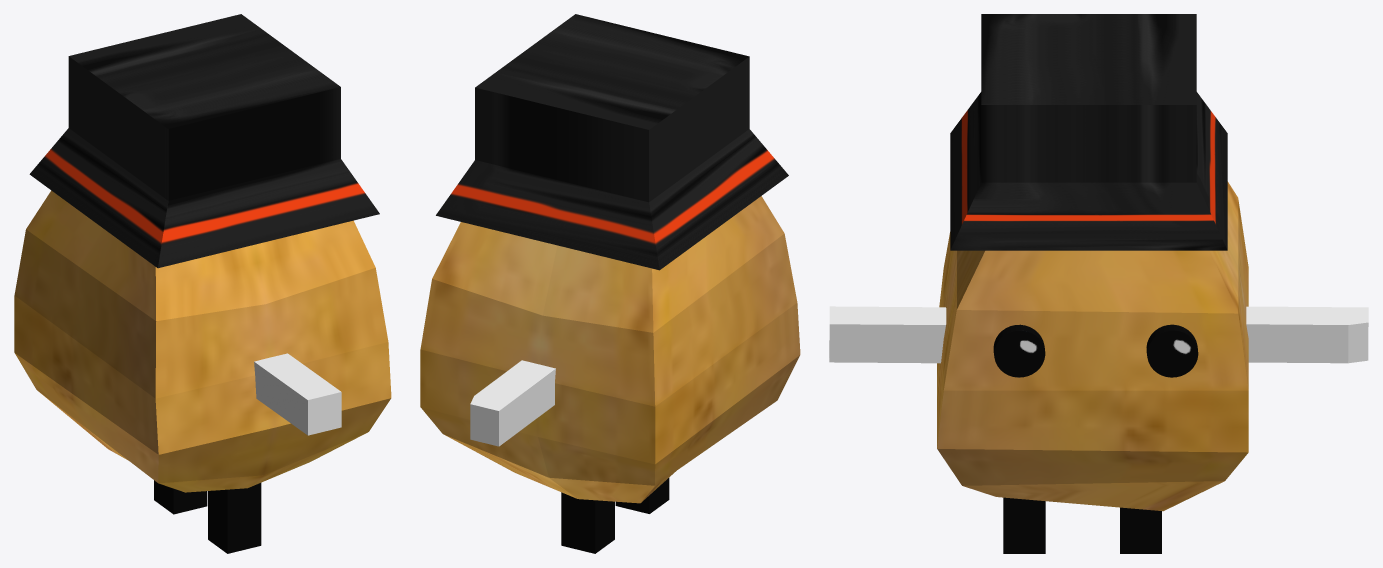
Rendered from random.fbx.
3 renders of one model, left to right at view 1: azimuth 30°, elevation 25°; view 2: azimuth 150°, elevation 25°; view 3: azimuth 270°, elevation 25°, orthographic. The views are drawn at different scales.
Visible parts, largest first — view 1: Cube.004; view 2: Cube.004; view 3: Cube.004.
Part boxes in pixels (x1,y1,x2,y2): Cube.004: (14, 14, 391, 553); Cube.004: (420, 14, 800, 553); Cube.004: (829, 14, 1368, 553).
Size of the model in its own units: 217 by 386 by 388.
